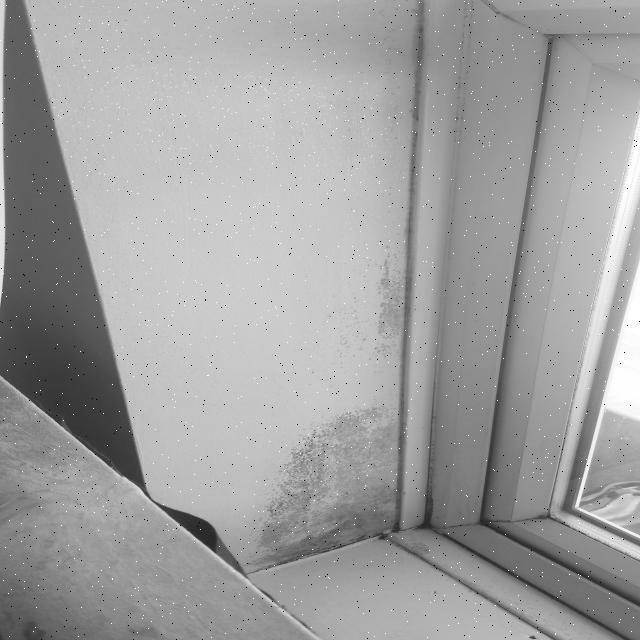stain marks: (220, 392, 436, 582), (332, 223, 460, 369)
